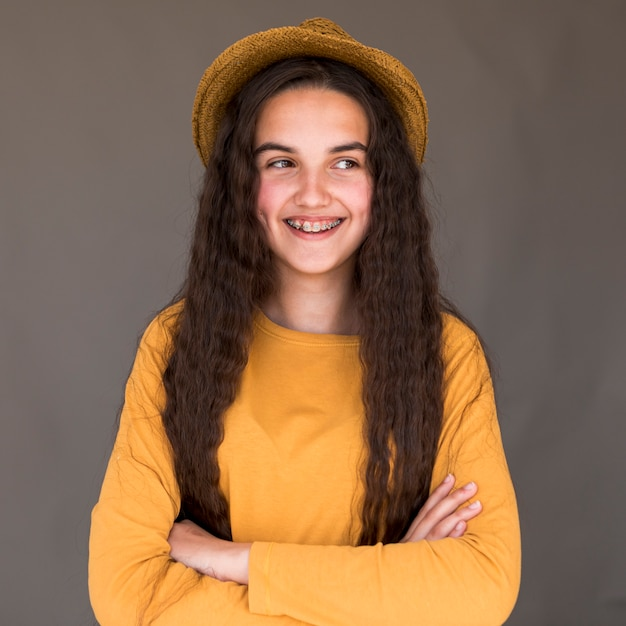teen: (183, 21, 421, 349)
